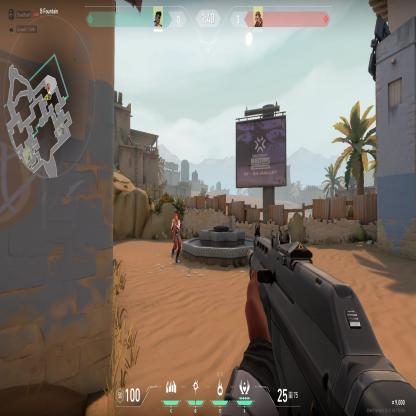enemy: (171, 212, 181, 263)
